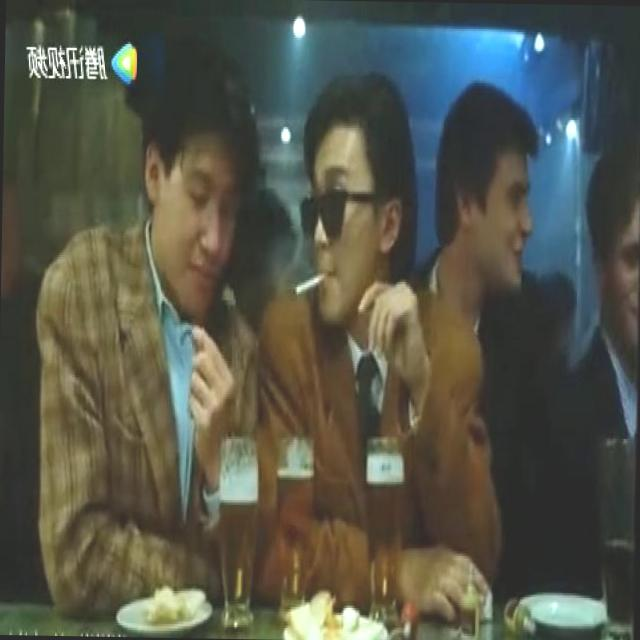smoke: (293, 256, 332, 302)
